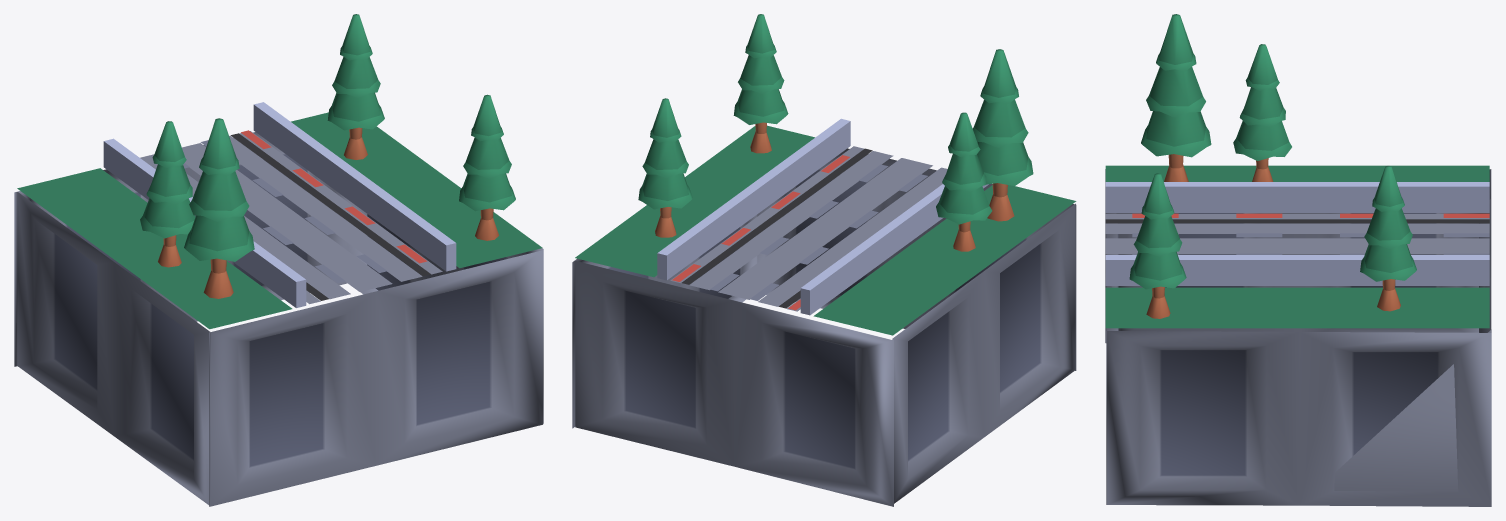
The model's file is elev-thin-straight.glb.
3 views of the same model, side by side, from view 1: azimuth 30°, elevation 25°; view 2: azimuth 150°, elevation 25°; view 3: azimuth 270°, elevation 25° (orthographic). The views are drawn at different scales.
Visible parts, largest first — view 1: track-straight.011; view 2: track-straight.011; view 3: track-straight.011.
Part boxes in pixels (left/top/right/bottom): track-straight.011: left=14, top=14, right=543, bottom=506; track-straight.011: left=572, top=14, right=1076, bottom=506; track-straight.011: left=1105, top=14, right=1491, bottom=506.
Bounding box in the file's own units: 10.1 × 10.05 × 10.06.
4 materials, 4 textured.
